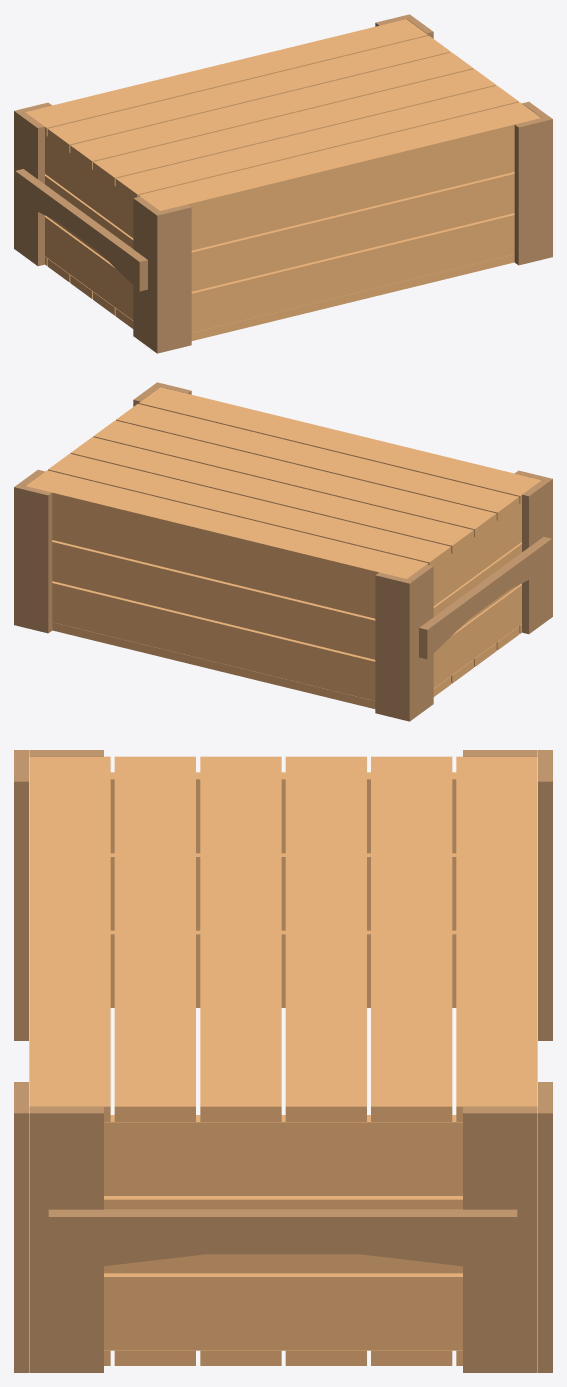
3 renders of one model, top to bottom at view 1: azimuth 30°, elevation 25°; view 2: azimuth 150°, elevation 25°; view 3: azimuth 270°, elevation 25°, orthographic. The views are drawn at different scales.
Parts seen in each view (by area): view 1: crates.002; view 2: crates.002; view 3: crates.002.
Boxes of the visible parts, <box> form: crates.002: <box>14,14,552,353</box>; crates.002: <box>14,382,552,721</box>; crates.002: <box>14,750,552,1372</box>.
Size of the model in its own units: 486 by 155 by 292.
